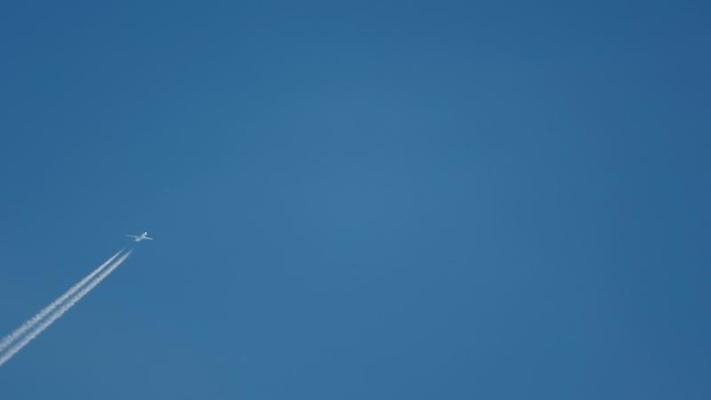Plane: (2, 220, 180, 381)
